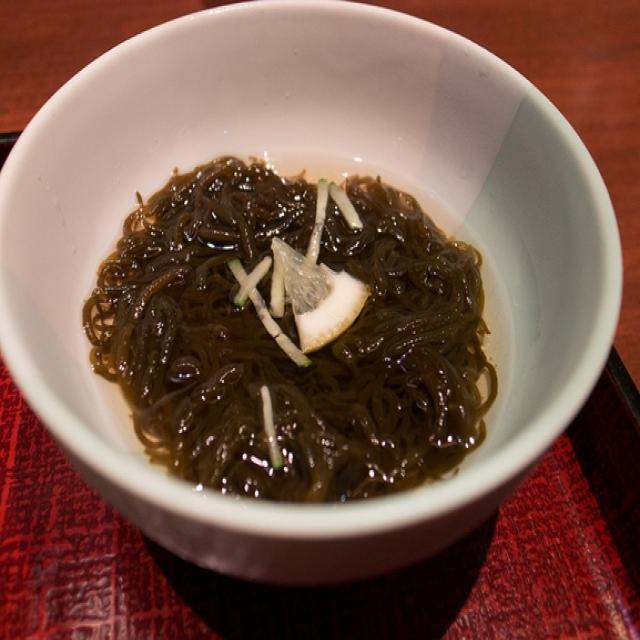蔬菜料理: (33, 21, 606, 532)
